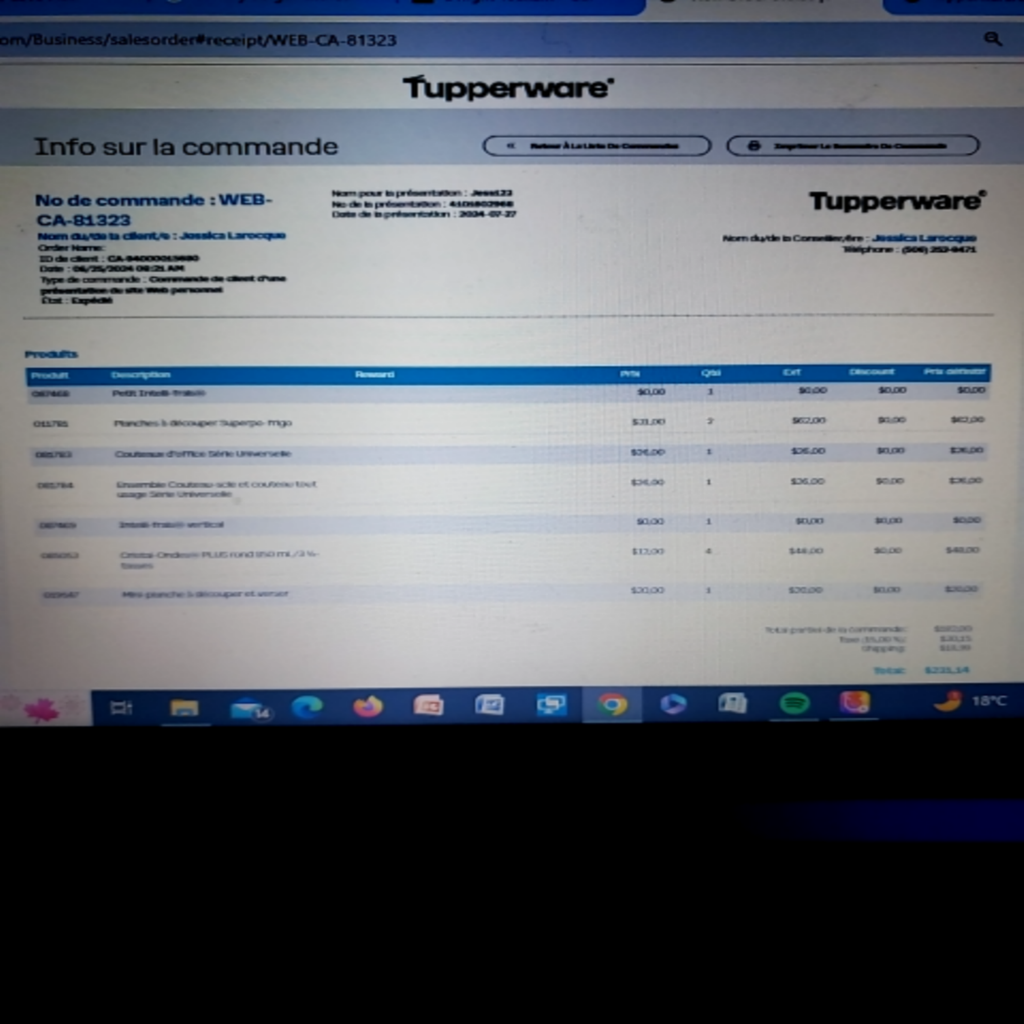recipt: (11, 71, 1009, 678)
